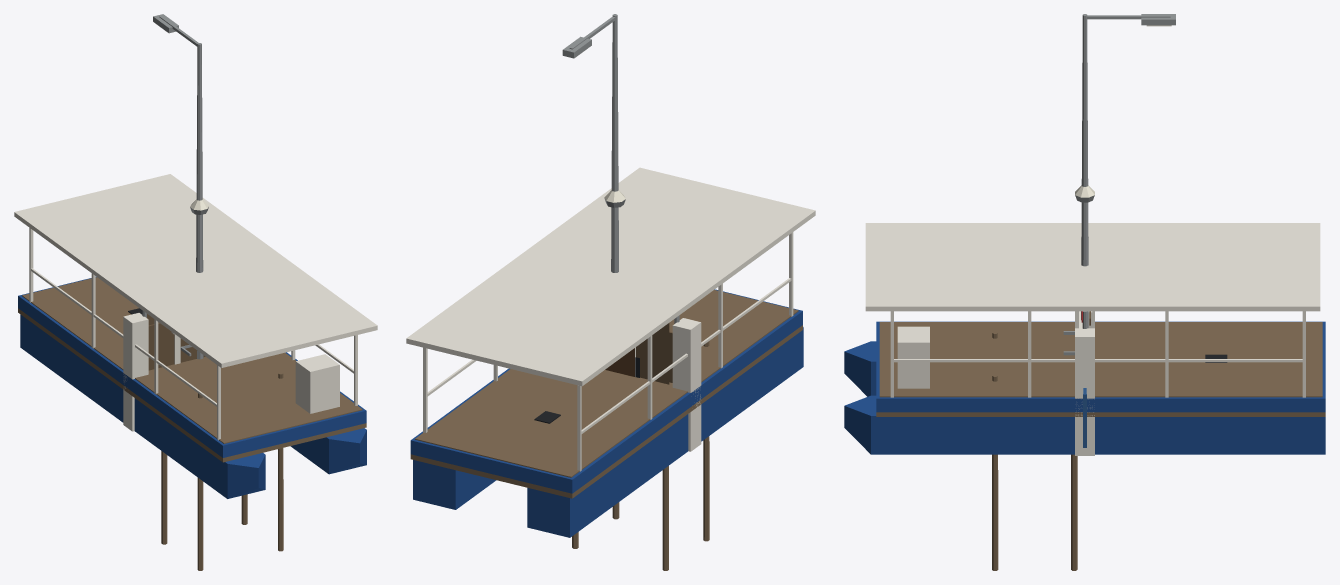
The model's file is kit.glb.
3 renders of one model, left to right at view 1: azimuth 30°, elevation 25°; view 2: azimuth 150°, elevation 25°; view 3: azimuth 270°, elevation 25°, orthographic. The views are drawn at different scales.
Visible parts, largest first — view 1: excursion, gate_yard, platform, lamp; view 2: excursion, gate_yard, lamp, platform, door_barn; view 3: excursion, lamp, gate_yard, platform.
Boxes of the visible parts, box(x1,y1,x2,y2) form: excursion: box(14, 174, 377, 498); gate_yard: box(123, 313, 205, 431); platform: box(161, 372, 283, 570); lamp: box(153, 14, 203, 359); excursion: box(406, 167, 815, 537); gate_yard: box(669, 318, 701, 451); lamp: box(562, 14, 618, 272); platform: box(572, 341, 709, 570); door_barn: box(636, 323, 669, 384); excursion: box(844, 223, 1325, 454); lamp: box(1081, 14, 1175, 328); gate_yard: box(1075, 311, 1094, 455); platform: box(992, 332, 1077, 570).
Size of the model in its own units: 3.85 by 11 by 9.
